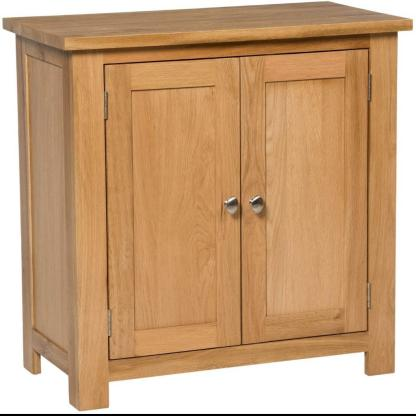Cabinet: (3, 0, 413, 412)
